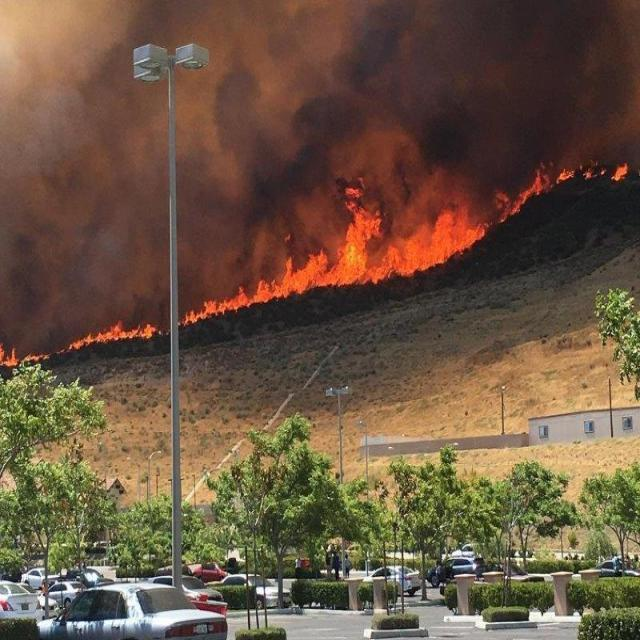Fire: (180, 192, 480, 330), (502, 159, 630, 224), (3, 319, 156, 365)
